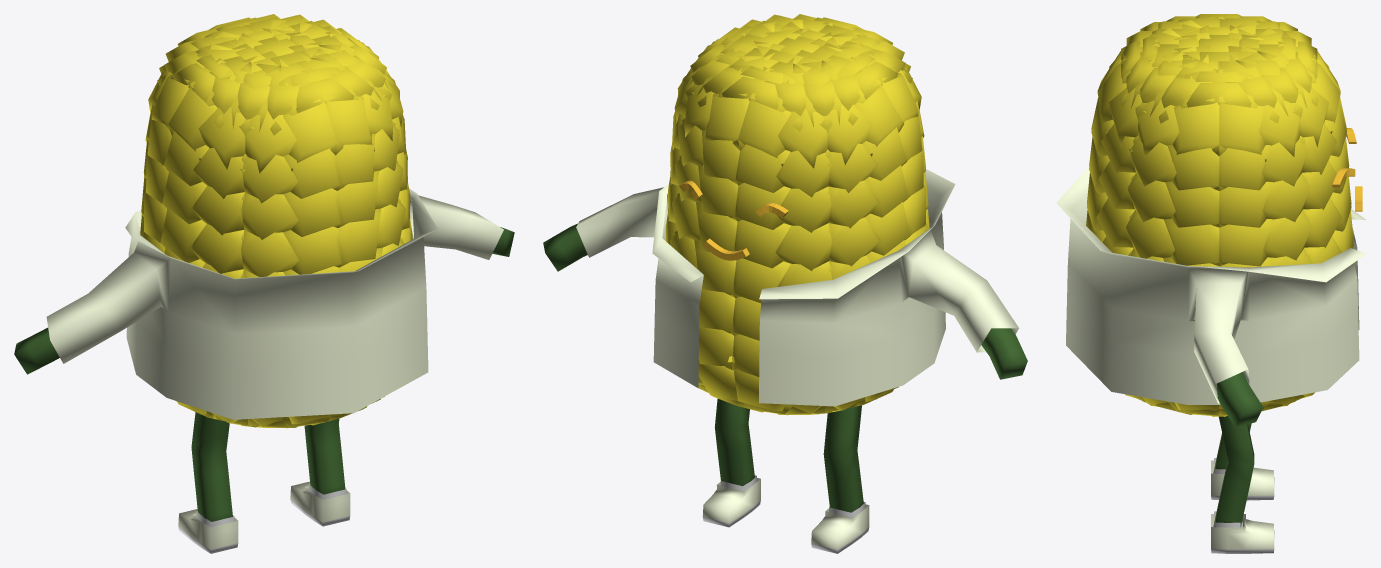
File: corn_GEO.fbx
The picture shows the model from 3 angles, left to right: view 1: azimuth 30°, elevation 25°; view 2: azimuth 150°, elevation 25°; view 3: azimuth 270°, elevation 25°; orthographic projection. The views are drawn at different scales.
Visible parts, largest first — view 1: corn; view 2: corn; view 3: corn.
Boxes of the visible parts, <box> form: corn: <box>14,14,514,553</box>; corn: <box>543,14,1027,553</box>; corn: <box>1056,14,1366,553</box>.
Bounding box in the file's own units: 227 × 212 × 125.
